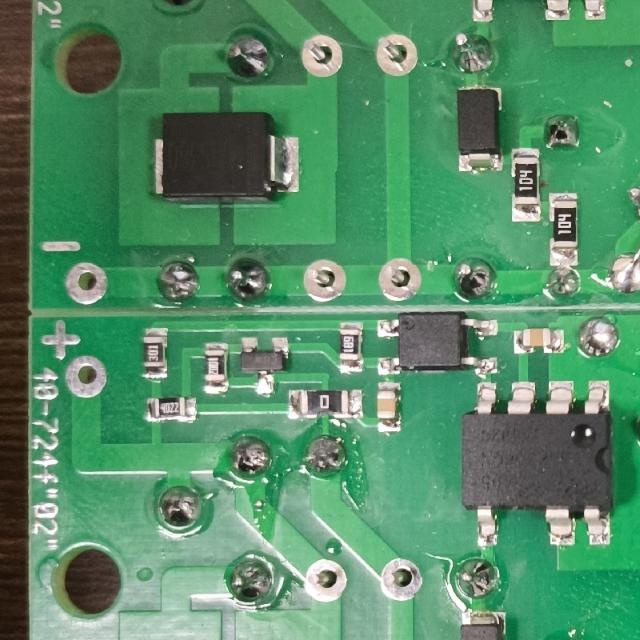chip-capacitor: (511, 326, 567, 355), (376, 380, 404, 433)
chip-resistor: (286, 387, 366, 422), (509, 144, 542, 223), (548, 188, 580, 267), (145, 393, 198, 422), (141, 324, 169, 378), (338, 318, 364, 372), (204, 340, 228, 396)
diode: (153, 109, 301, 206), (456, 82, 503, 173)
ic: (458, 371, 616, 549), (377, 310, 501, 377)
transistor: (239, 334, 291, 397)
